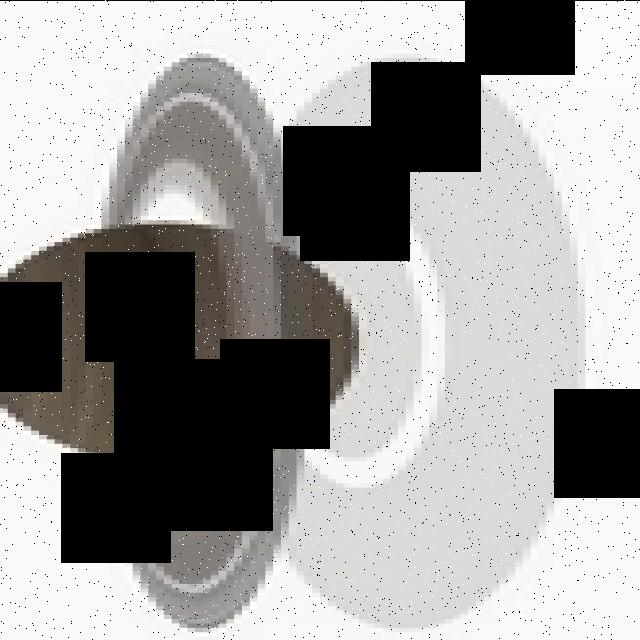Saturn: (0, 52, 367, 636)
